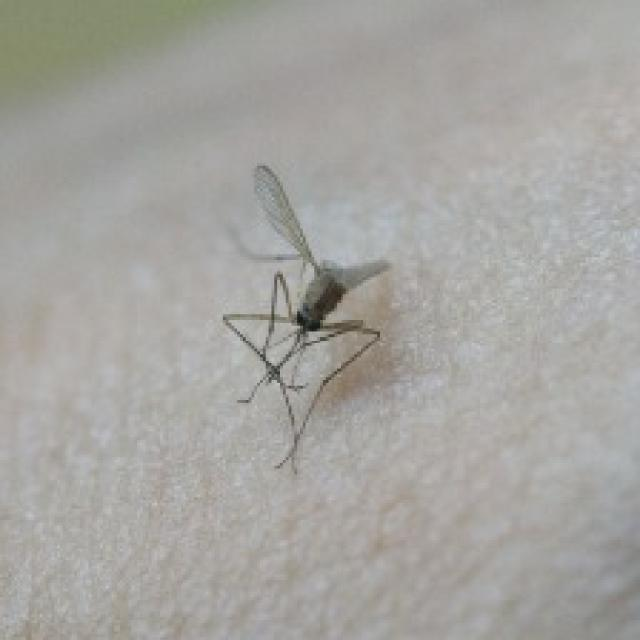culex: (220, 160, 391, 471)
